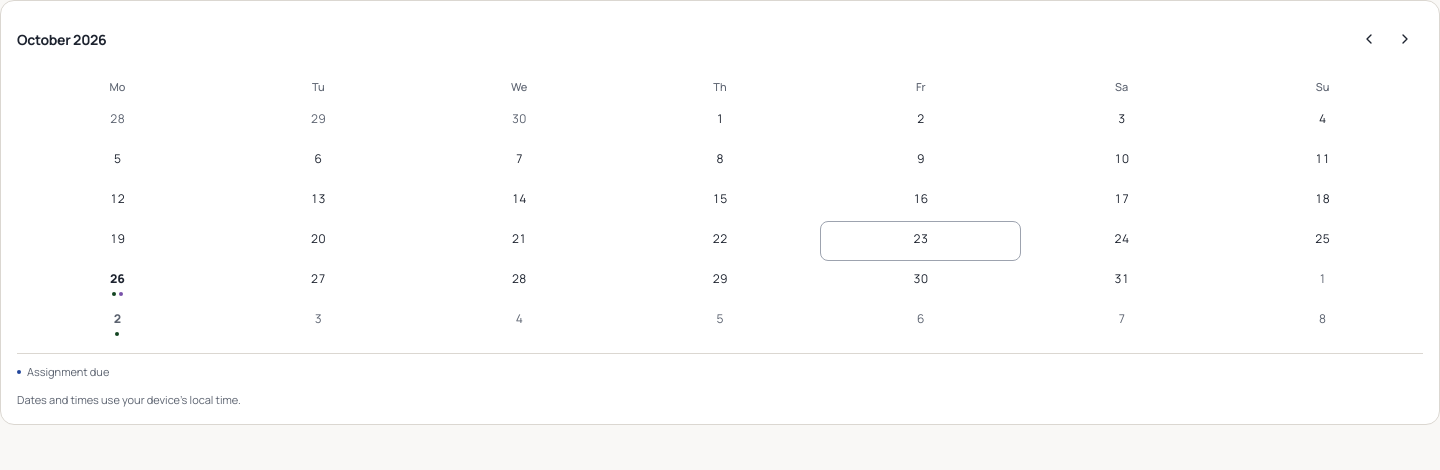
Test: assignment deadline calendar › uses month navigation and a truthful empty-month message
Click the button named "Next month".
click(1405, 39)  # box [1387,17,1423,61]
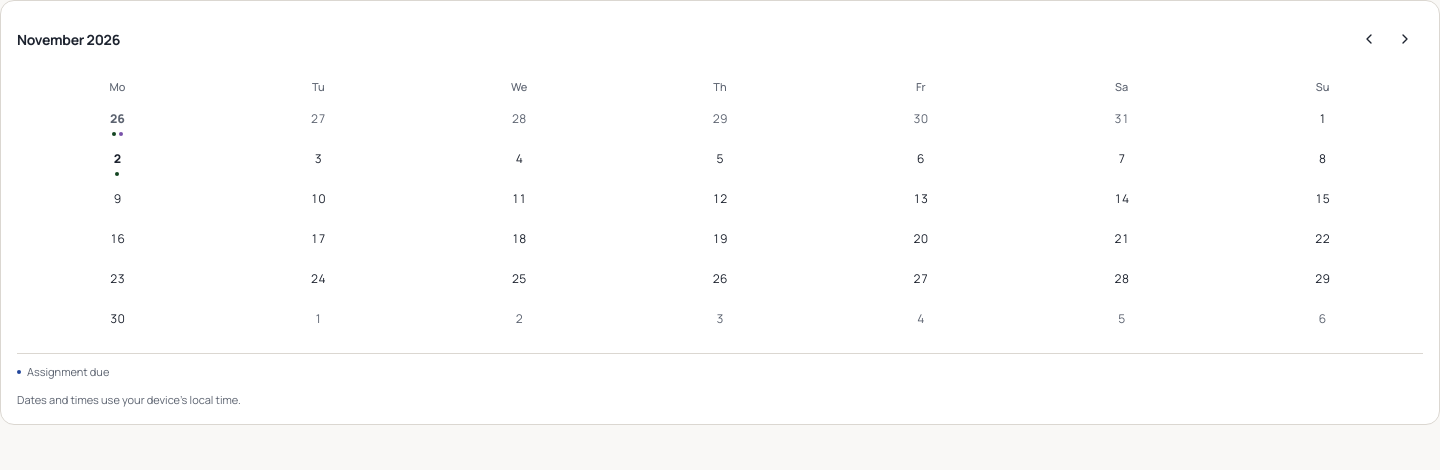
Expected: the text "No deadlines this month." is not shown
Expected: the text "November 2026" is shown, [17,28,120,50]
Click the button named "Next month".
click(1405, 39)  # box [1387,17,1423,61]
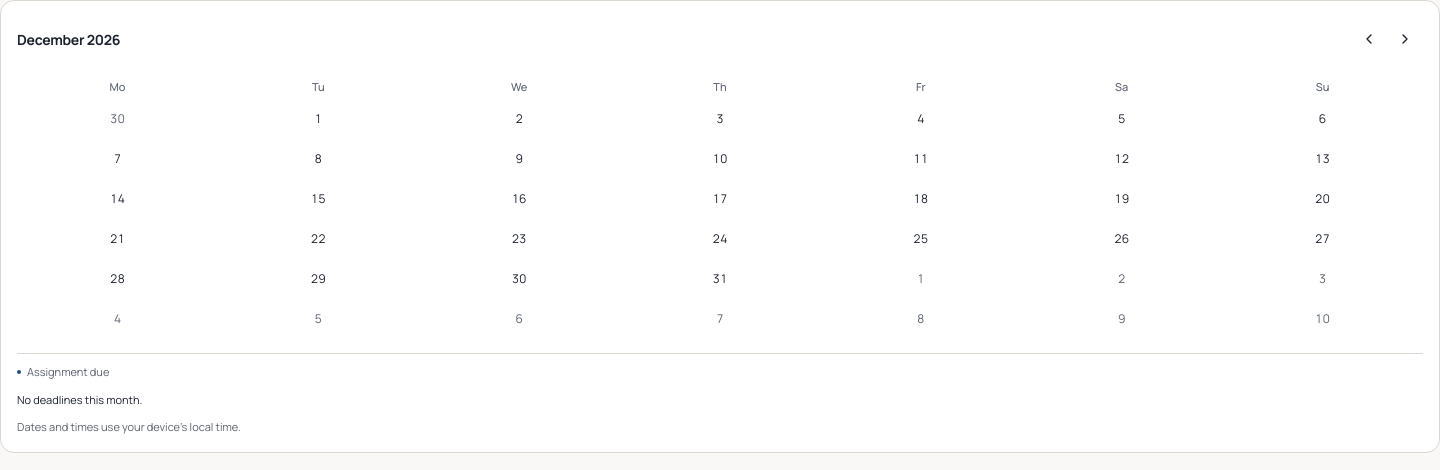
Expected: the text "December 2026" is shown, [17,28,120,50]
Expected: the text "No deadlines this month." is shown, [17,392,142,406]
Click the button named "Previous month".
click(1369, 39)  # box [1351,17,1387,61]
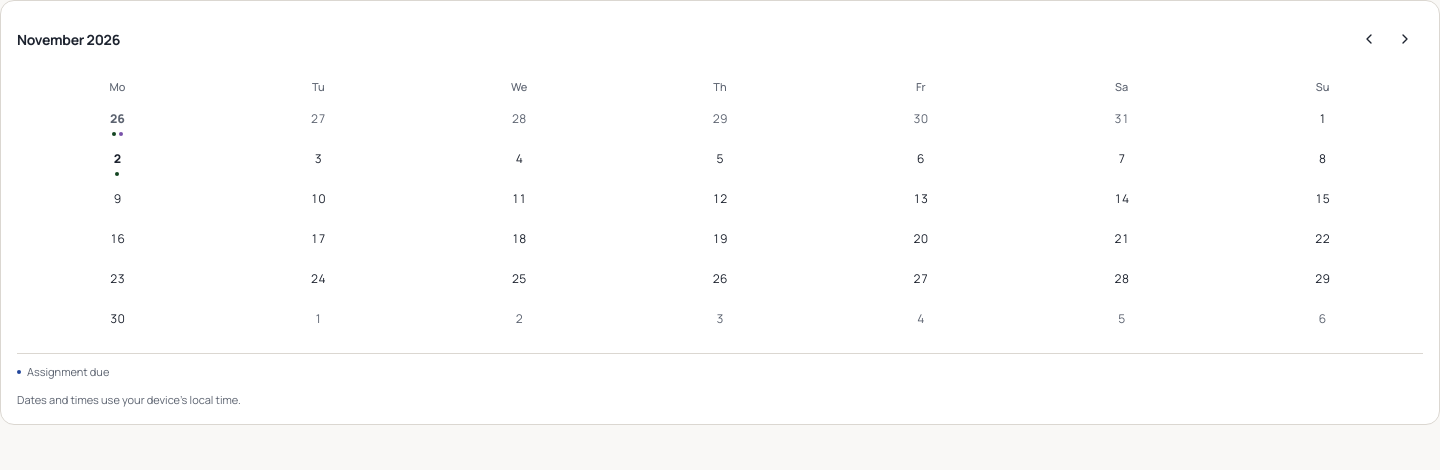
Expected: the text "November 2026" is shown, [17,28,120,50]
